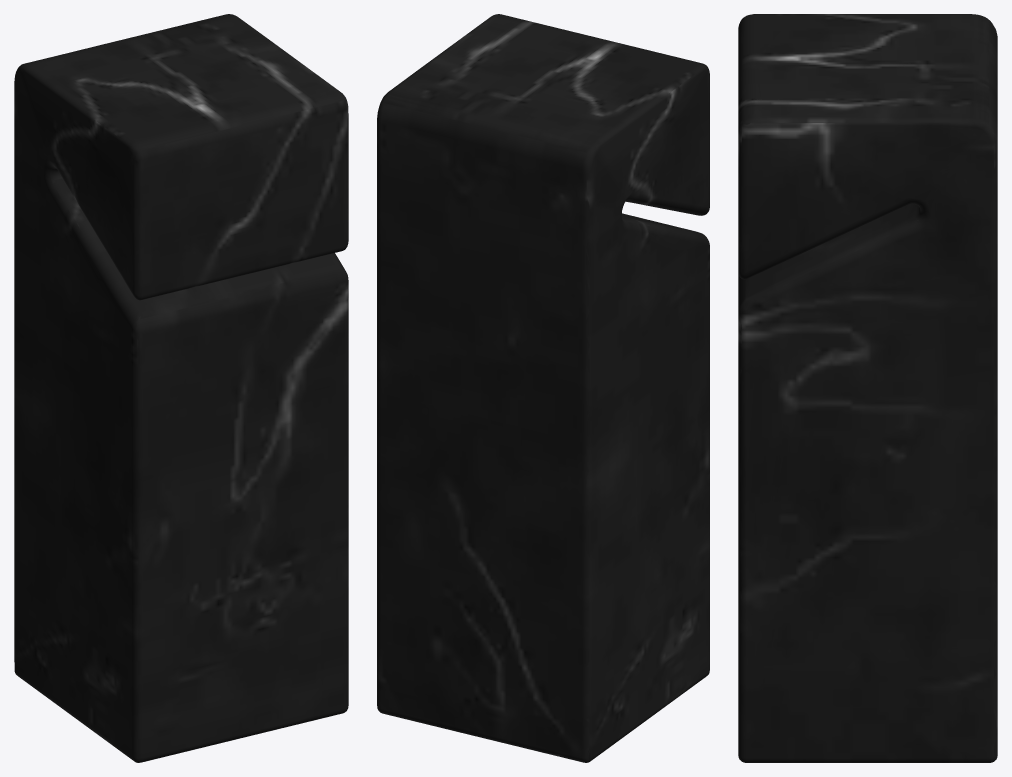
The model's file is jezdec_cerny.glb.
The picture shows the model from 3 angles, left to right: view 1: azimuth 30°, elevation 25°; view 2: azimuth 150°, elevation 25°; view 3: azimuth 270°, elevation 25°; orthographic projection. The views are drawn at different scales.
Parts seen in each view (by area): view 1: jezdec_cerny; view 2: jezdec_cerny; view 3: jezdec_cerny.
Part boxes in pixels (x1,y1,x2,y2): jezdec_cerny: [14, 14, 348, 762]; jezdec_cerny: [377, 14, 709, 762]; jezdec_cerny: [738, 14, 997, 762].
Size of the model in its own units: 0.024 by 0.0658 by 0.024.
1 material, 1 textured.
